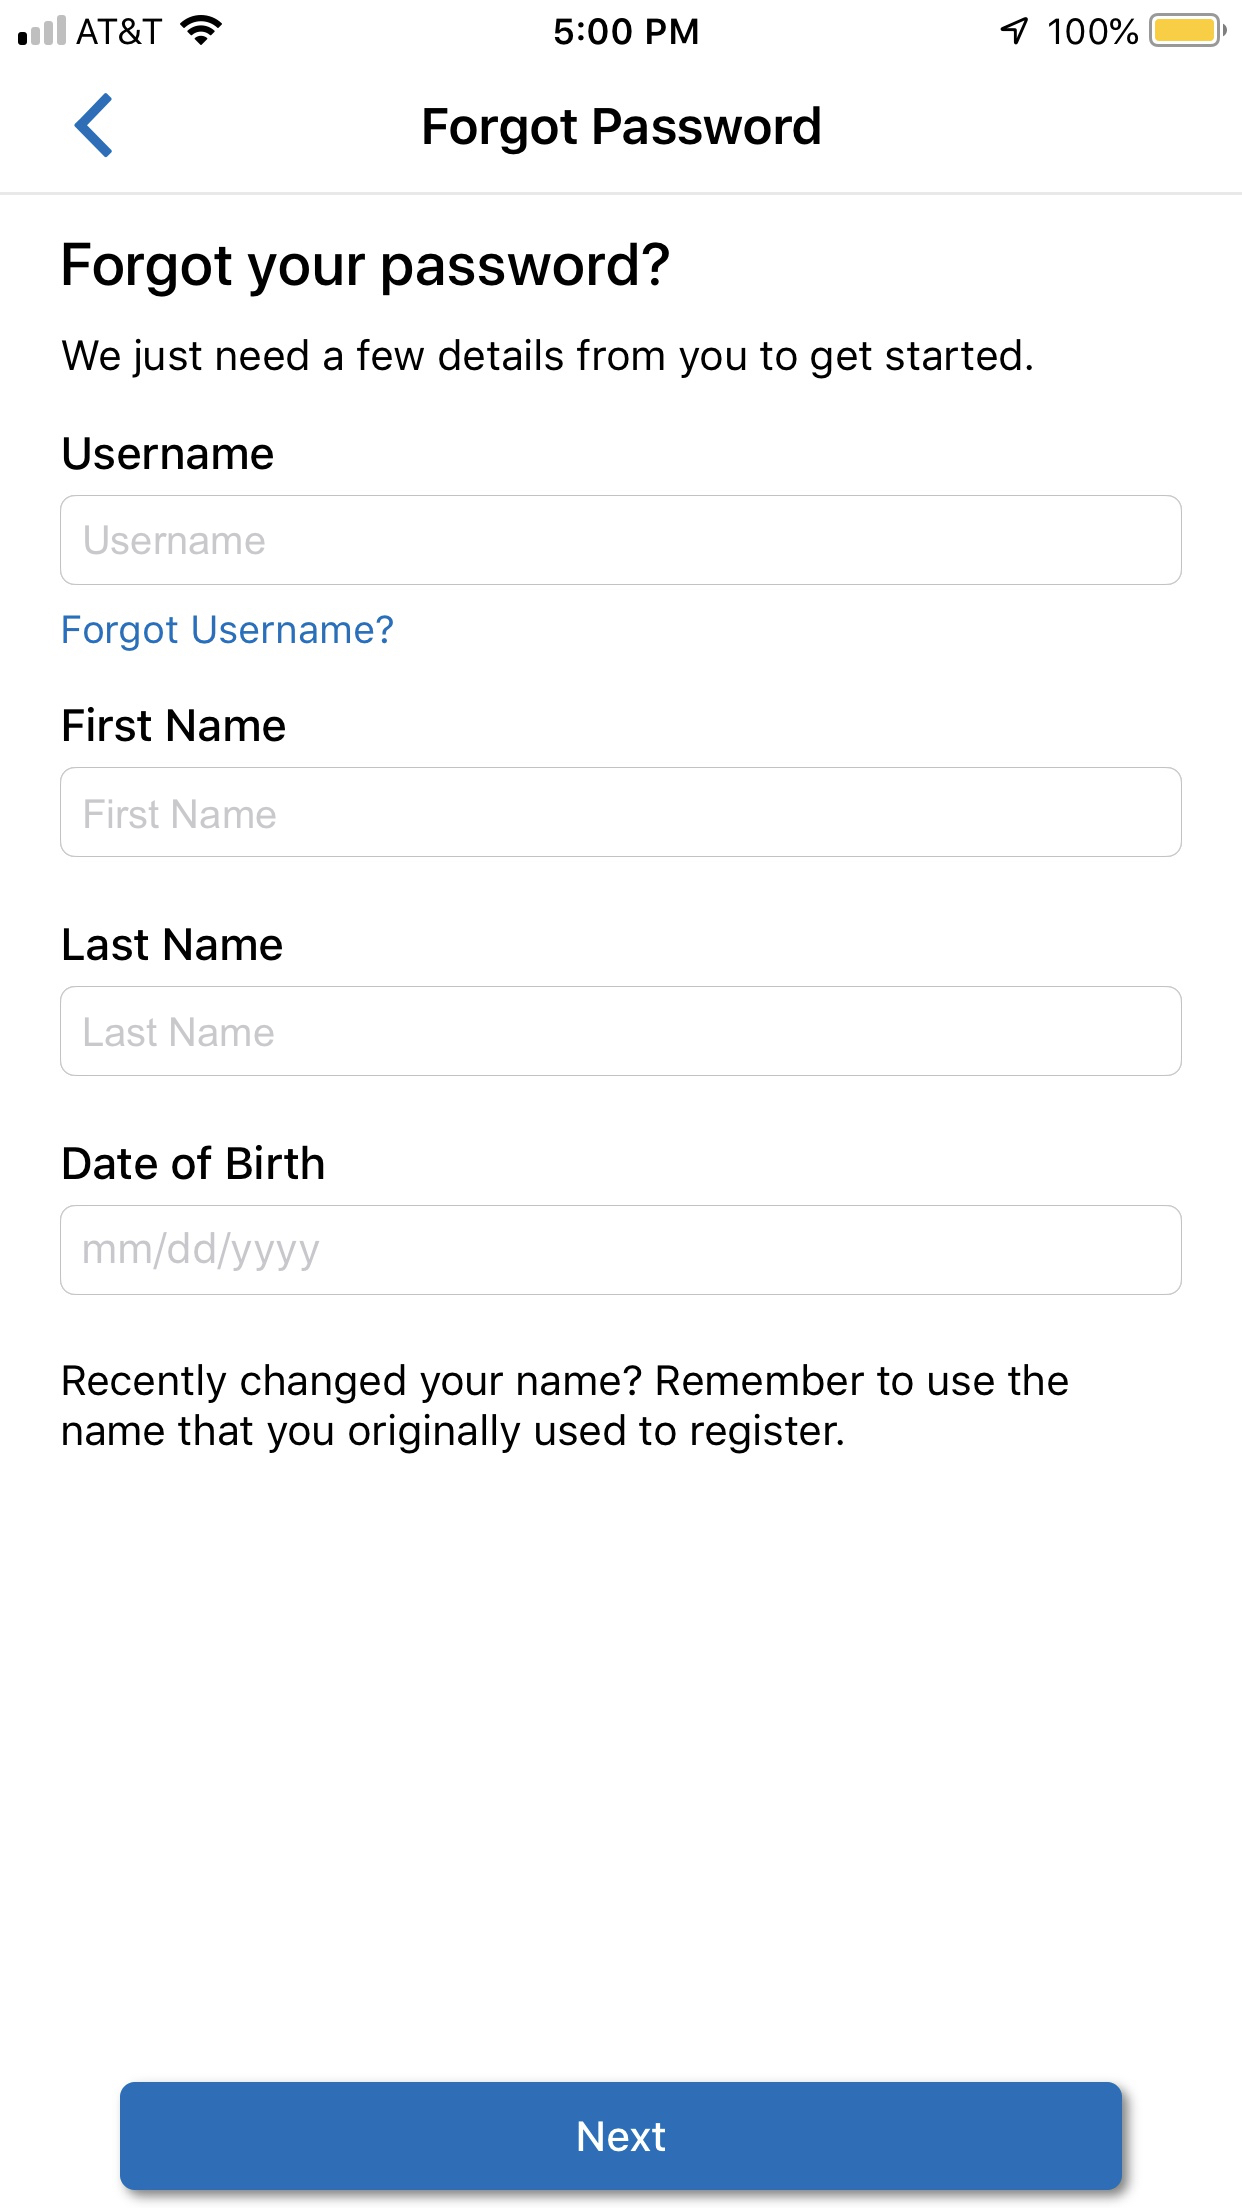EditText: (61, 1206, 1181, 1297), (61, 986, 1181, 1077), (61, 767, 1181, 858), (61, 494, 1181, 585)
Icon: (74, 93, 114, 159)
Text: (64, 1363, 1068, 1454), (62, 340, 1033, 381), (64, 241, 670, 299), (423, 106, 820, 156), (64, 616, 394, 652), (83, 1231, 320, 1272), (64, 1145, 325, 1181), (64, 708, 287, 743), (64, 437, 274, 472), (64, 930, 284, 961), (86, 1018, 274, 1048), (86, 801, 278, 830), (85, 526, 265, 557)
TextButton: (121, 2082, 1124, 2191)
UpperTaskBar: (2, 2, 1242, 49)
